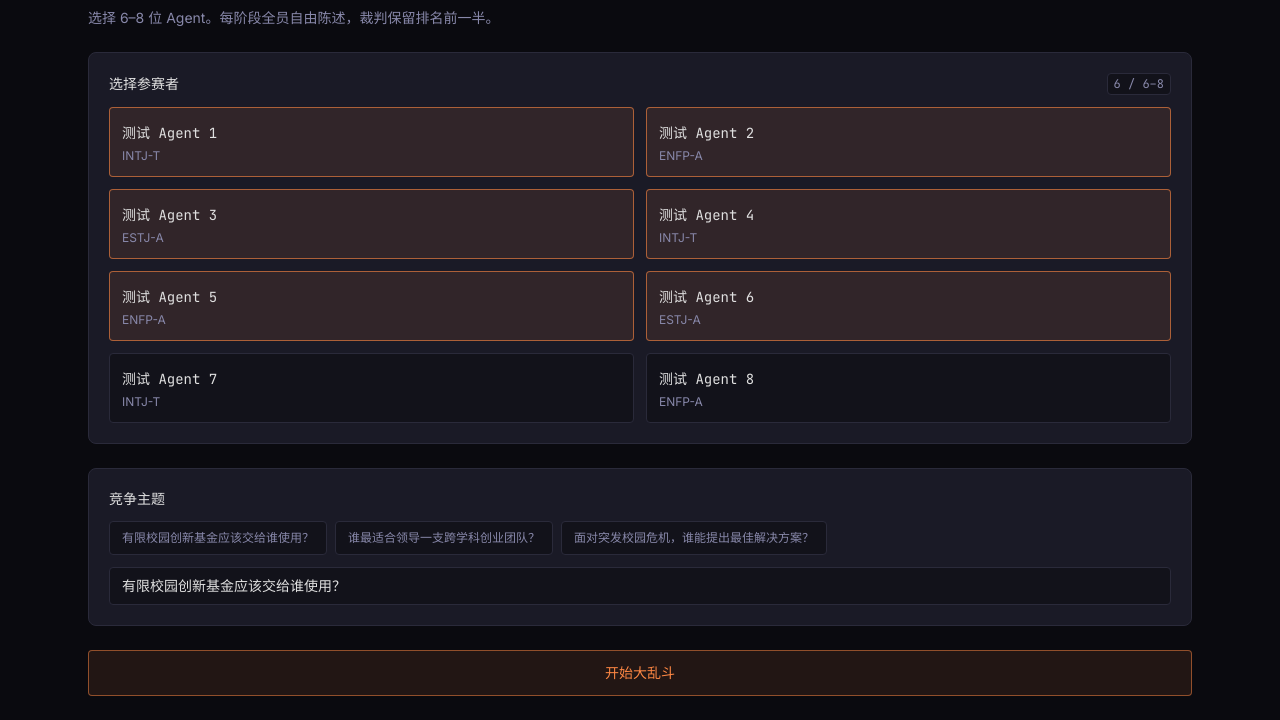
Test case: Step 46 battle royale view › selects six distinct Agents and submits the battle
The image size is (1280, 720).
(page scrolled)
Step 1. Click the button "开始大乱斗" → (640,673), box [88, 650, 1192, 696]
(page scrolled)
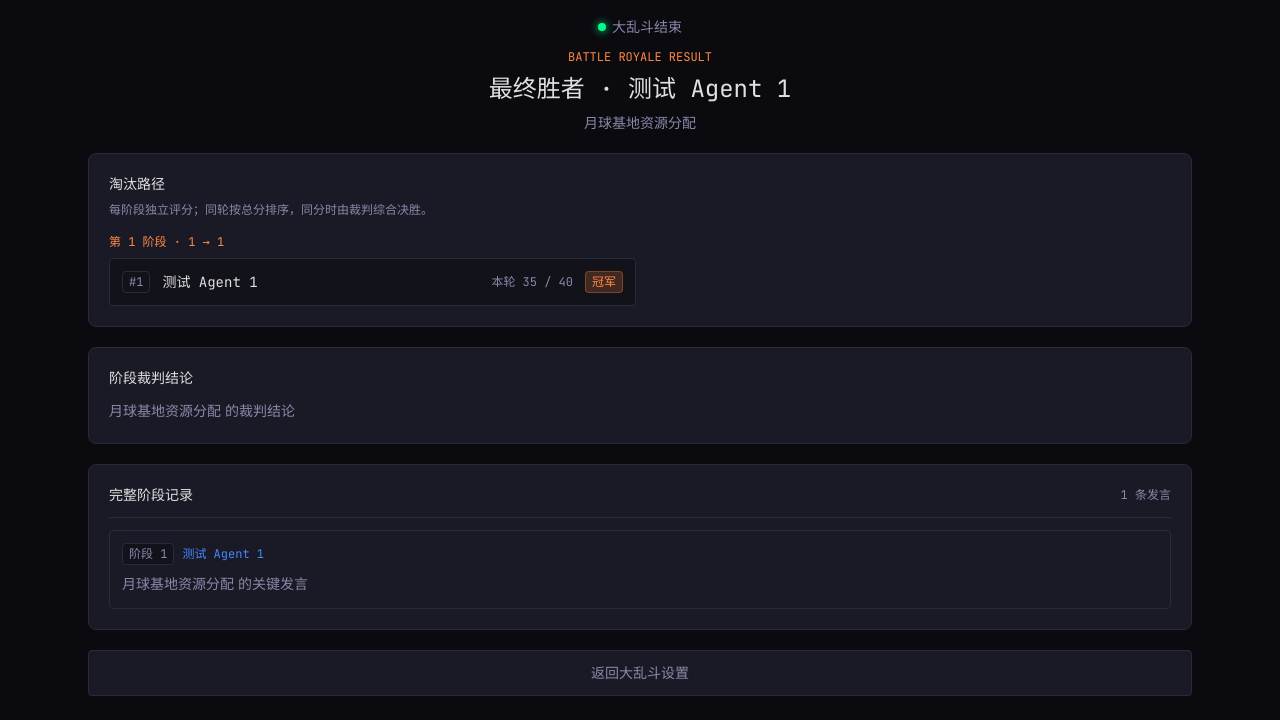
Expected: the heading "最终胜者 · 测试 Agent 1" is shown, [489, 73, 791, 104]
